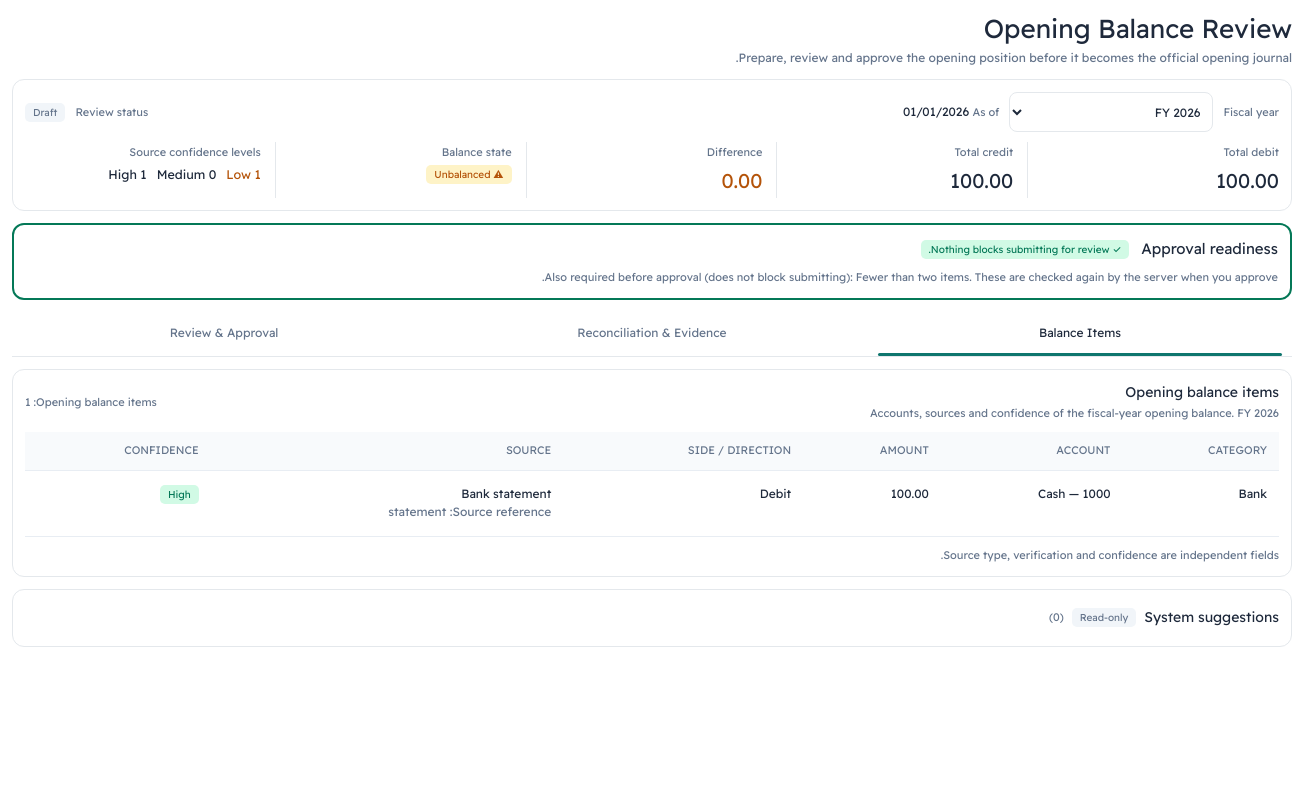
Test case: OpeningBalanceReview › shows submit independently of review permission
What coordinates should you click on to do the following:
click the tab "Review & Approval"
I would click on:
 (224, 334)
Its box is [12, 312, 436, 356].
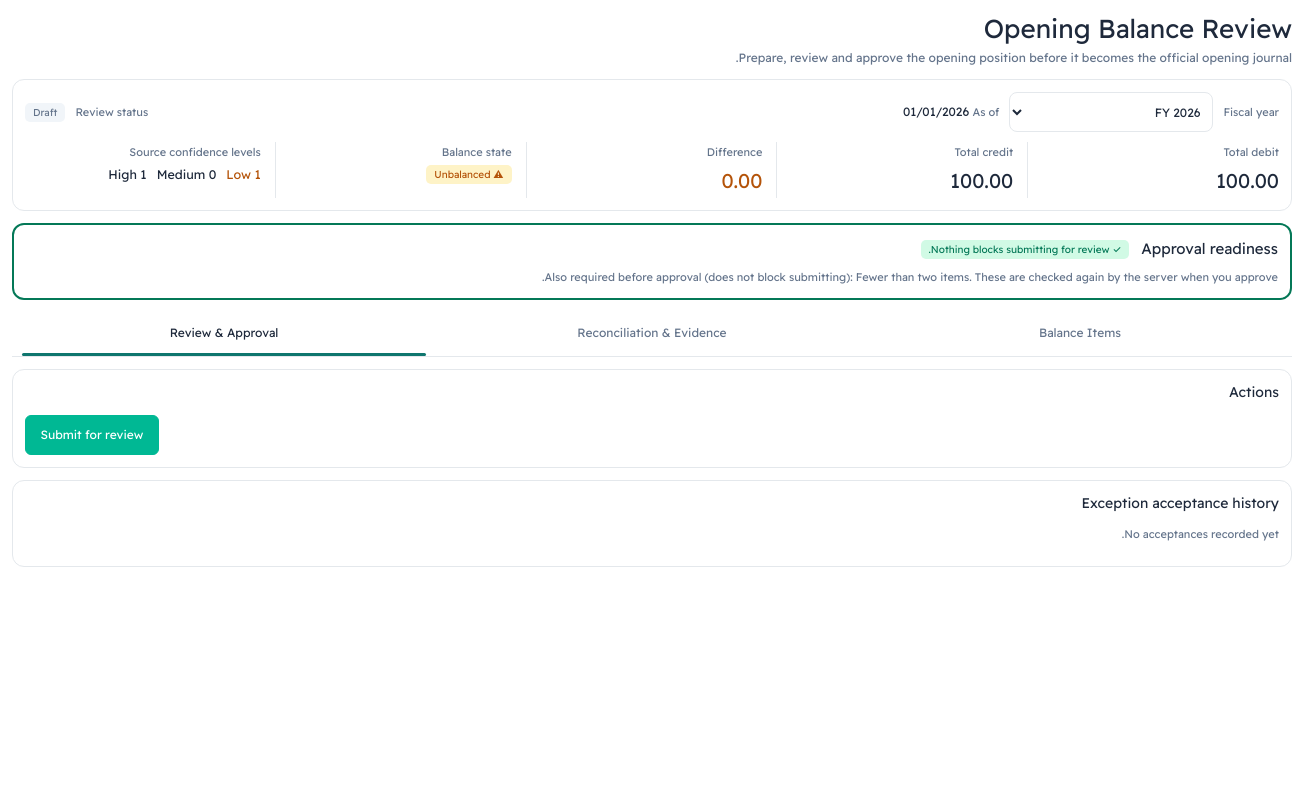
Now the button "Submit for review" is shown, box [25, 415, 159, 455]
